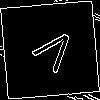V: (25, 25, 80, 82)
